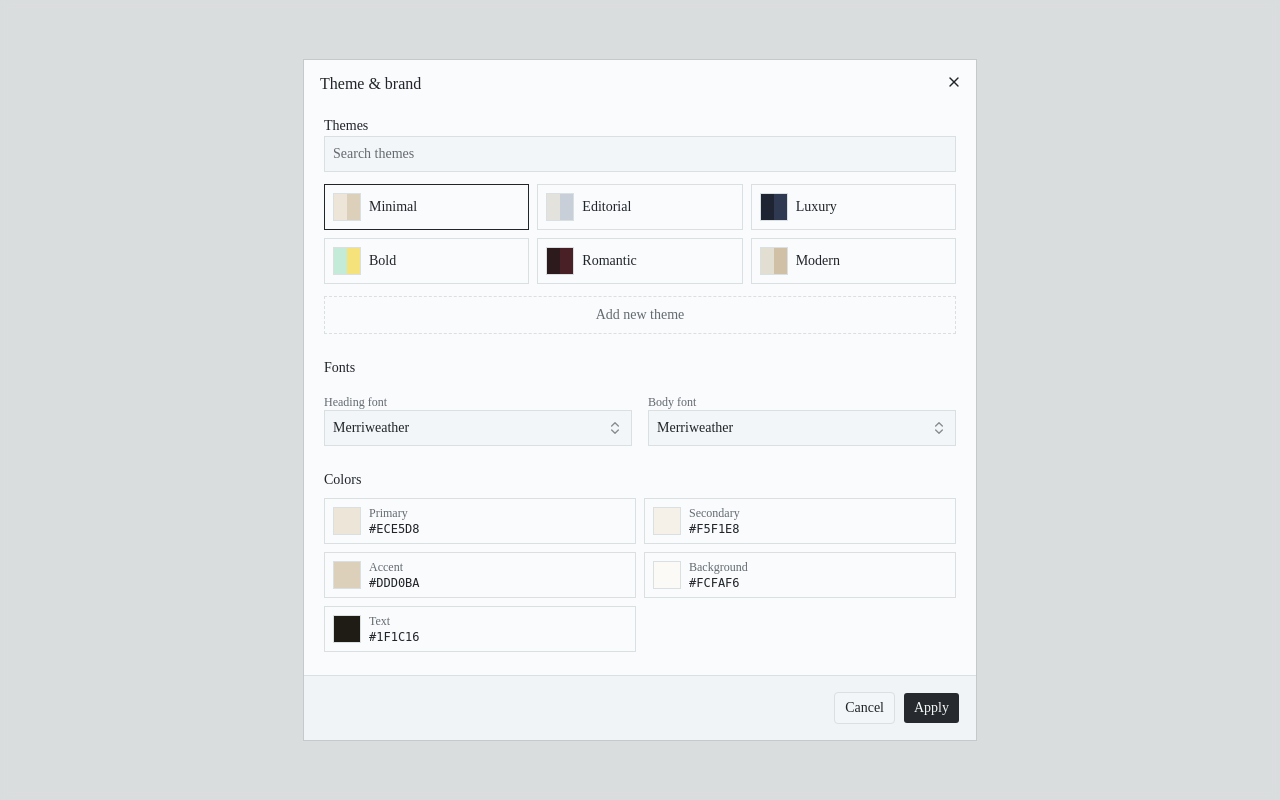
Test: ThemePanelDialog brand-kit dirty guard (A13) › Discard in the brand-kit dirty guard reverts to the opening snapshot and closes
Click the button with aria-label "Apply theme: Editorial" at (640, 207), box [538, 185, 742, 229]
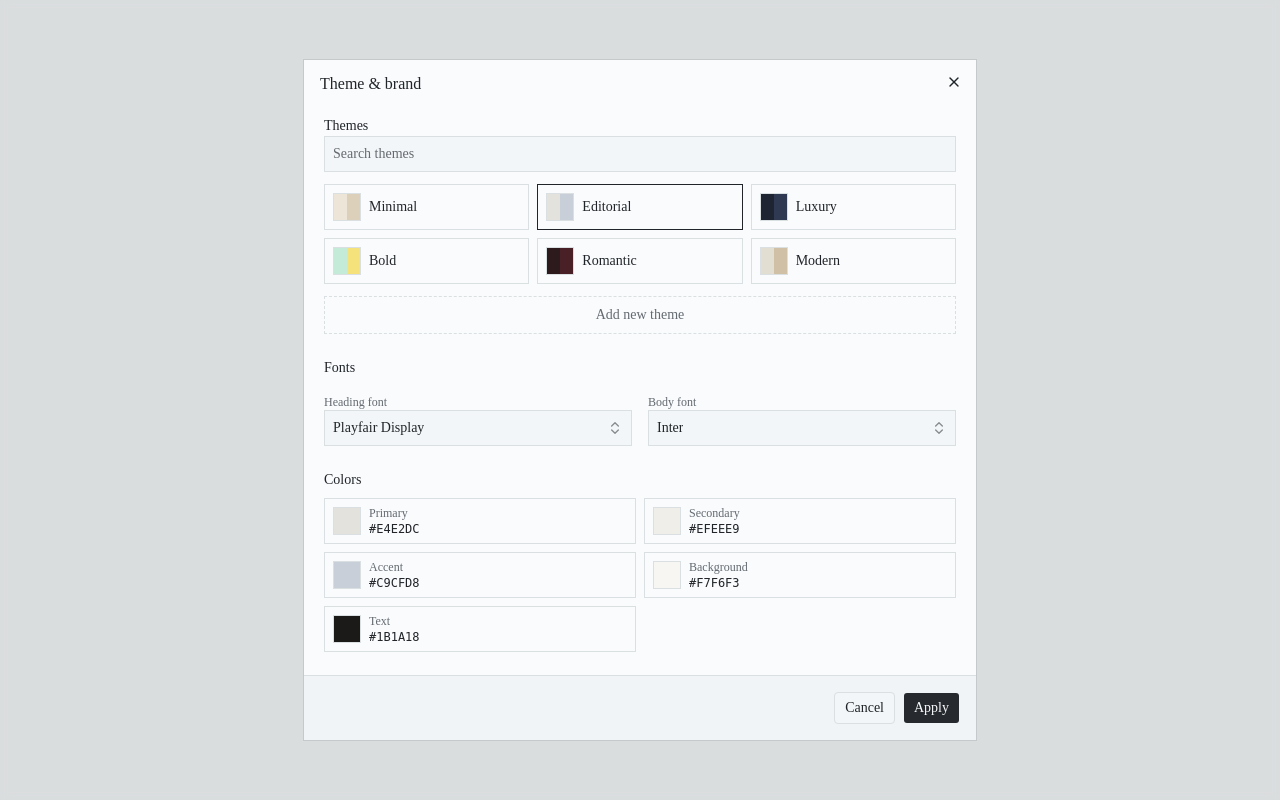
Click the button "Cancel" at (865, 708), box [834, 692, 895, 724]
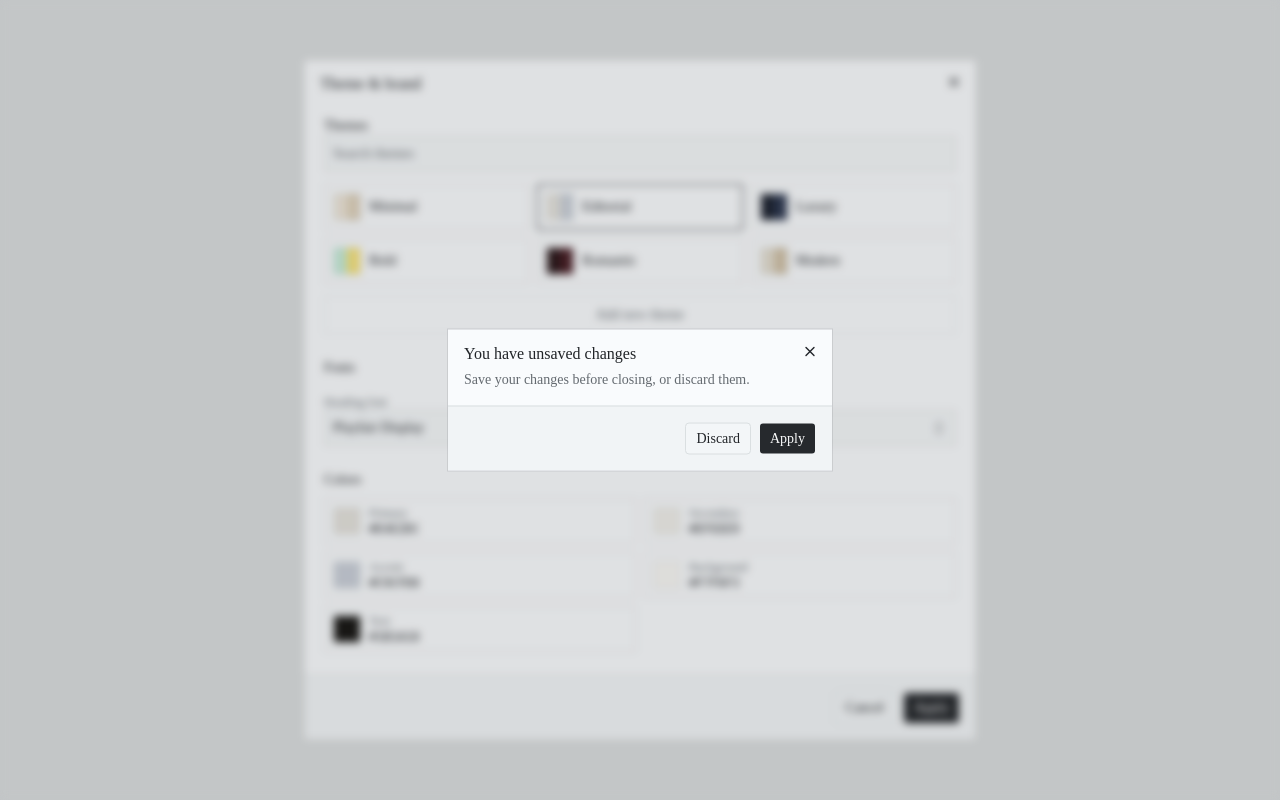
Click the button "Discard" at (718, 438), box [686, 422, 751, 454]
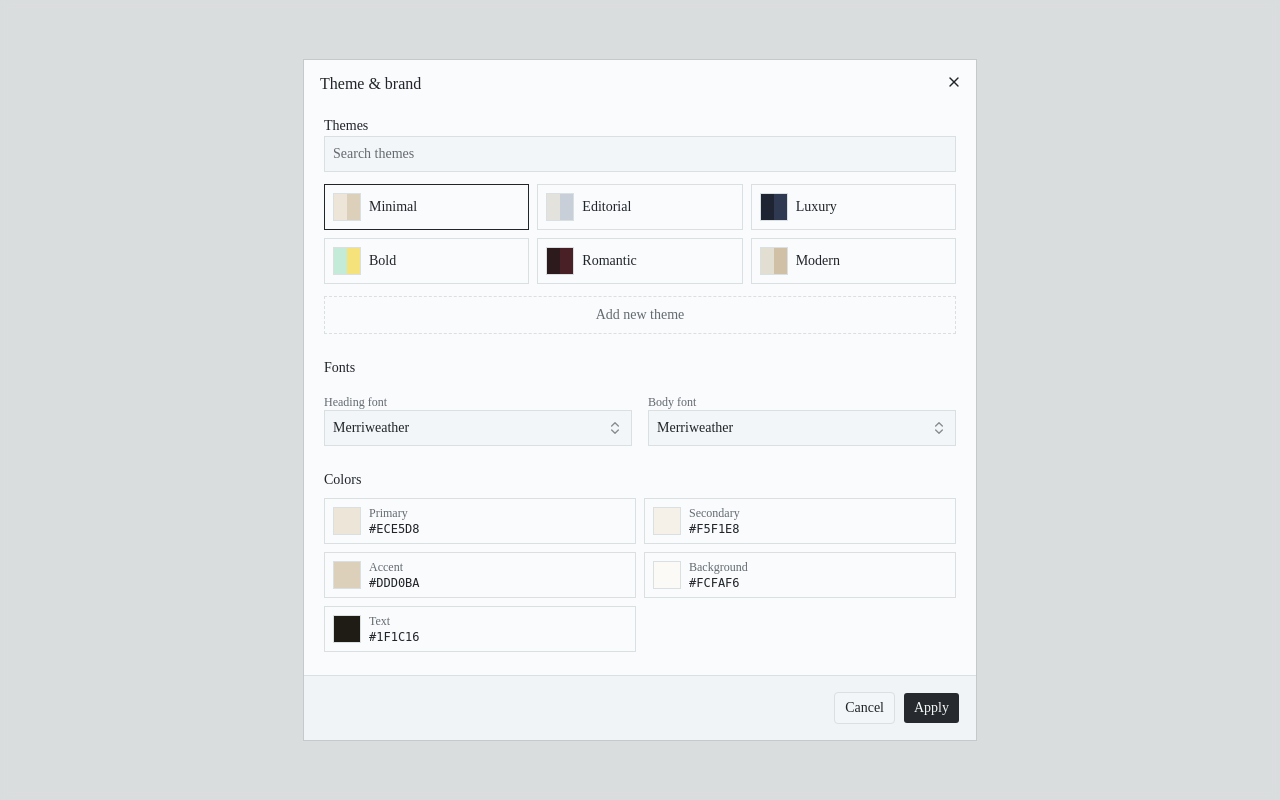
Now the text "#ddd0ba" is shown, box [369, 576, 420, 590]
